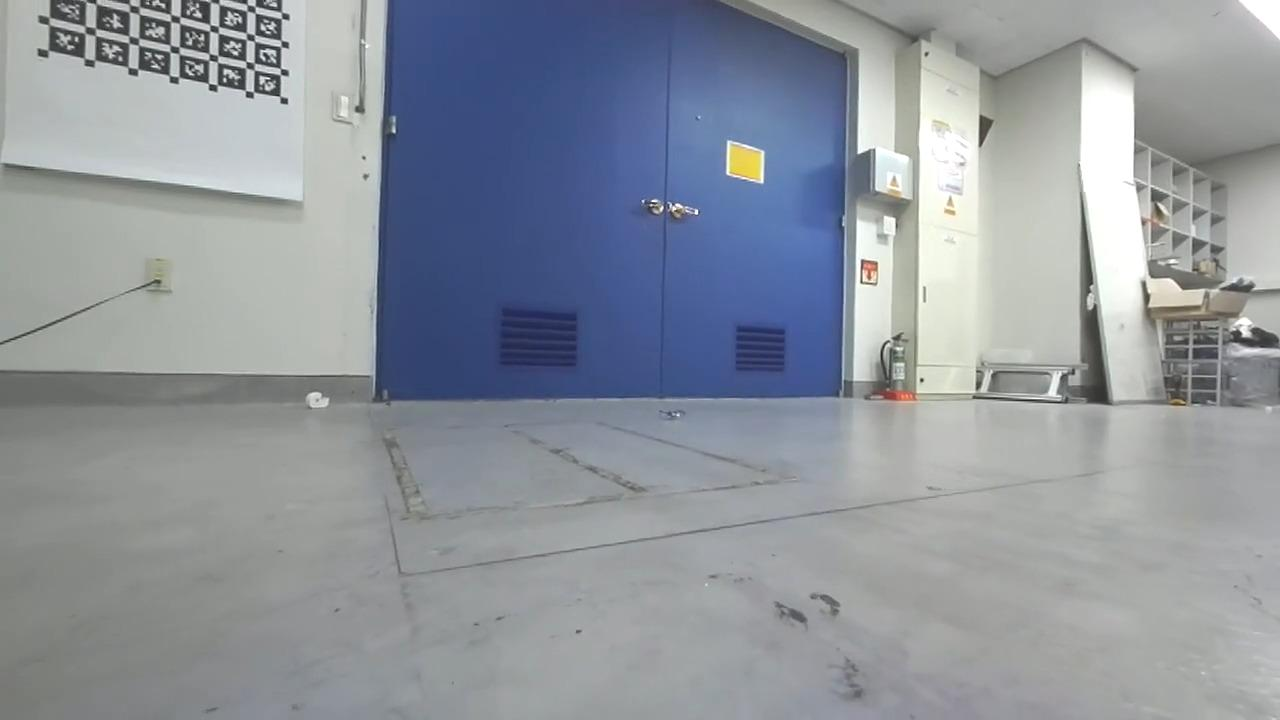crazyflie: (651, 400, 698, 429)
